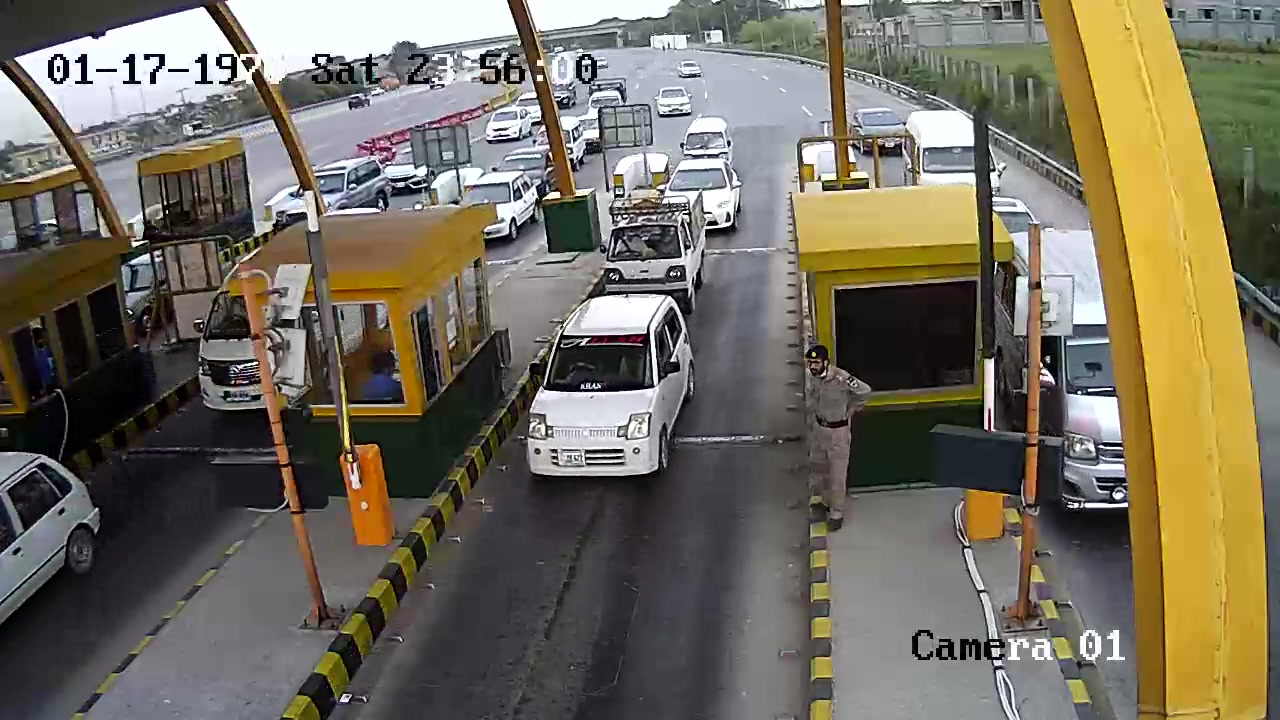F1: (511, 292, 696, 497)
